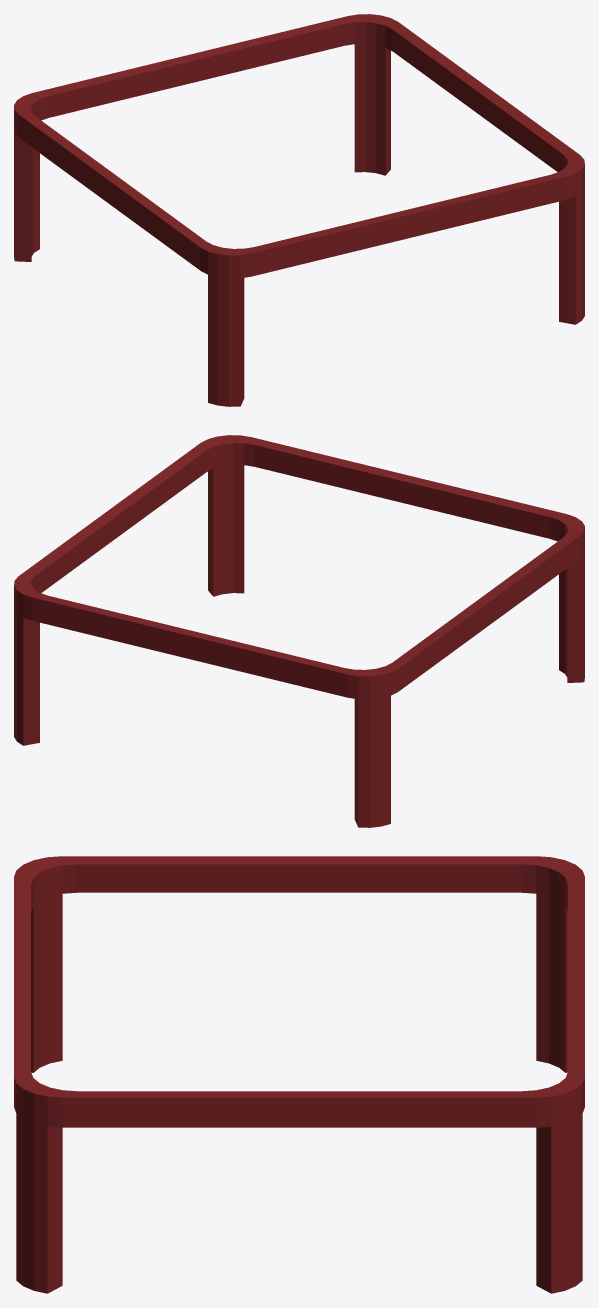
Rendered from table.fbx.
3 views of the same model, one above another, from view 1: azimuth 30°, elevation 25°; view 2: azimuth 150°, elevation 25°; view 3: azimuth 270°, elevation 25° (orthographic). The views are drawn at different scales.
Visible parts, largest first — view 1: Cube; view 2: Cube; view 3: Cube.
Boxes of the visible parts, x1=… form: Cube: x1=14, y1=14, x2=584, y2=406; Cube: x1=14, y1=435, x2=584, y2=827; Cube: x1=14, y1=856, x2=584, y2=1293.
Bounding box in the file's own units: 200 × 200 × 76.24.
